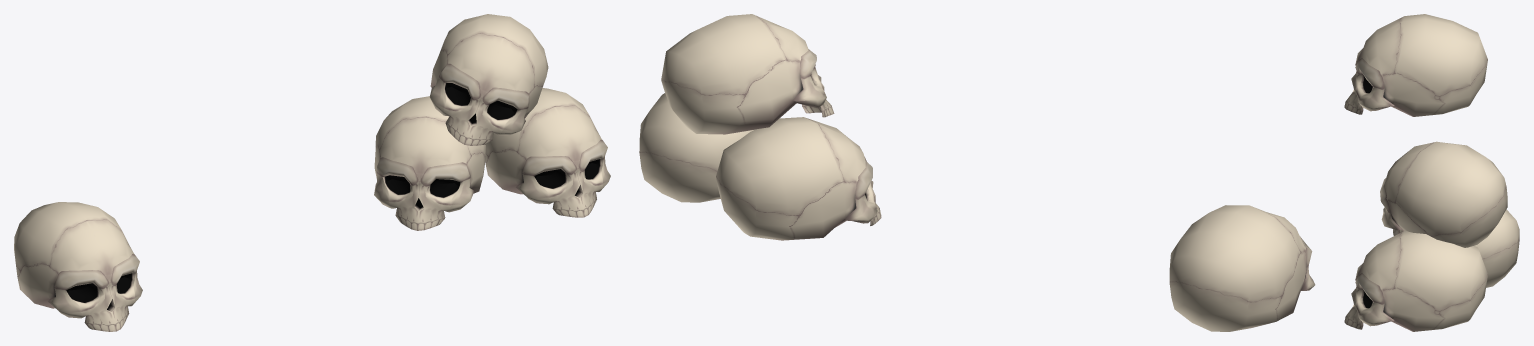
Rendered from Calavera.fbx.
3 views of the same model, side by side, from view 1: azimuth 30°, elevation 25°; view 2: azimuth 150°, elevation 25°; view 3: azimuth 270°, elevation 25° (orthographic). The views are drawn at different scales.
Visible parts, largest first — view 1: Calavera_Apilada, Calavera; view 2: Calavera_Apilada, Calavera; view 3: Calavera_Apilada, Calavera.
Boxes of the visible parts, bbox=[...] form: Calavera_Apilada: bbox=[374, 14, 610, 230]; Calavera: bbox=[14, 202, 142, 331]; Calavera_Apilada: bbox=[639, 14, 881, 240]; Calavera: bbox=[1169, 205, 1315, 331]; Calavera_Apilada: bbox=[1344, 141, 1519, 331]; Calavera: bbox=[1344, 14, 1487, 116].
Size of the model in its own units: 399 by 114 by 114.
